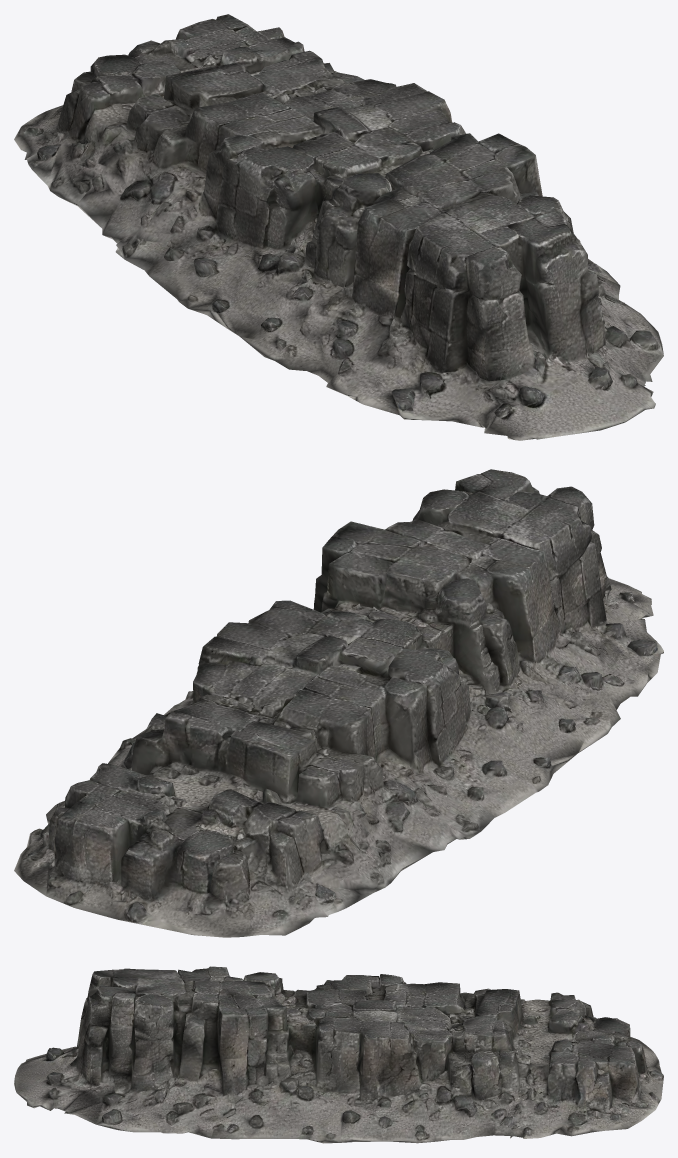
Rendered from rock-rim-outcrop.glb.
3 renders of one model, top to bottom at view 1: azimuth 30°, elevation 25°; view 2: azimuth 150°, elevation 25°; view 3: azimuth 270°, elevation 25°, orthographic. The views are drawn at different scales.
Parts seen in each view (by area): view 1: lod0; view 2: lod0; view 3: lod0.
Part boxes in pixels (x1,y1,x2,y2): lod0: (14, 14, 663, 440); lod0: (14, 469, 663, 937); lod0: (14, 966, 663, 1143).
Size of what is drawn, in the model's own units: 0.4417 by 0.1723 by 0.9978.
Materials: 1 (1 with a texture image).
